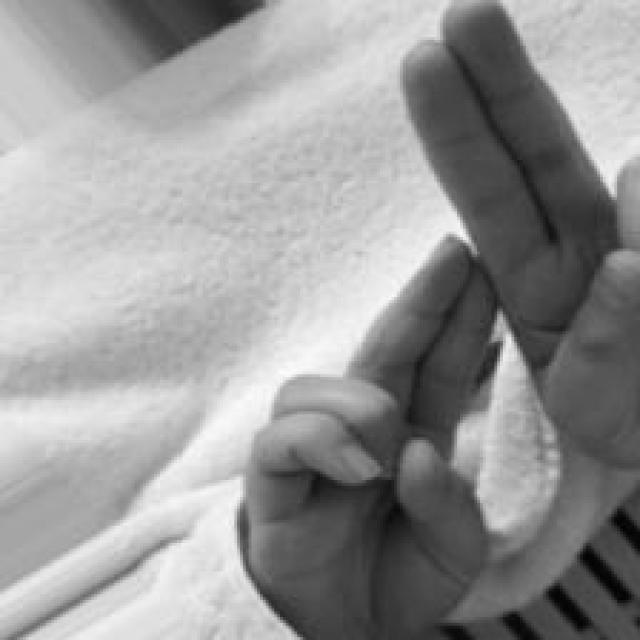K: (237, 0, 640, 640)
